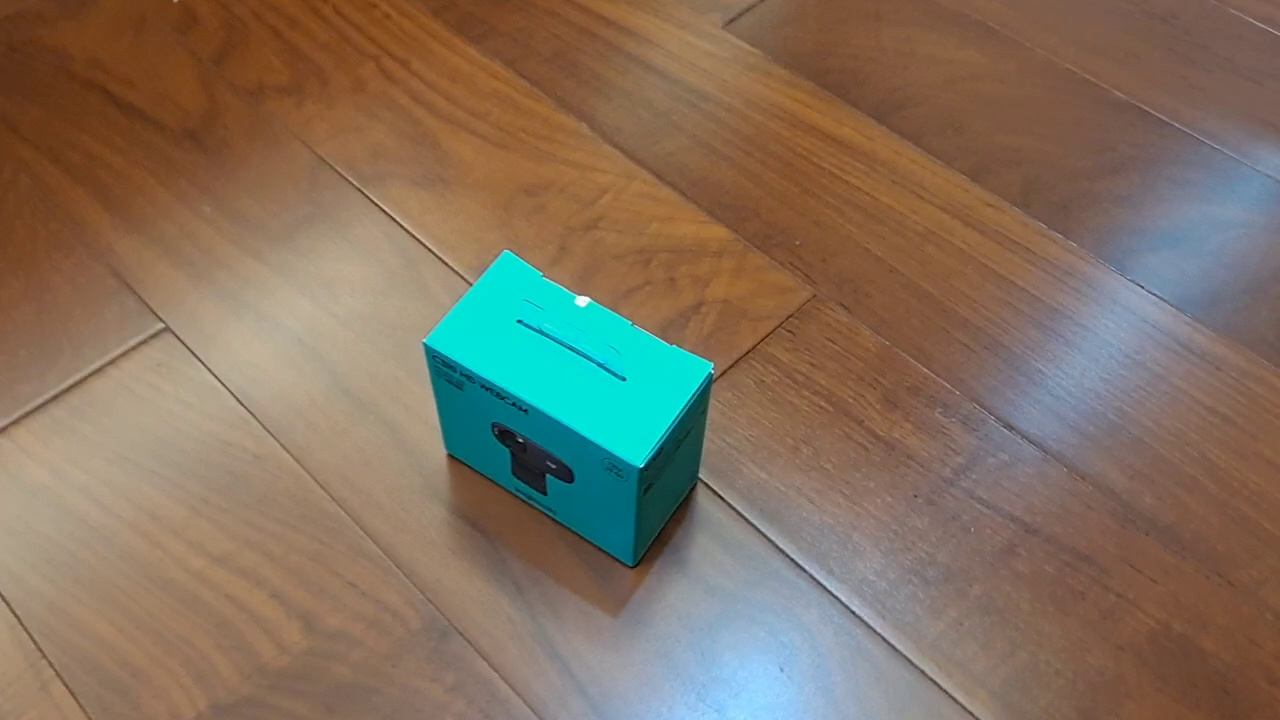webcam: (421, 249, 716, 570)
